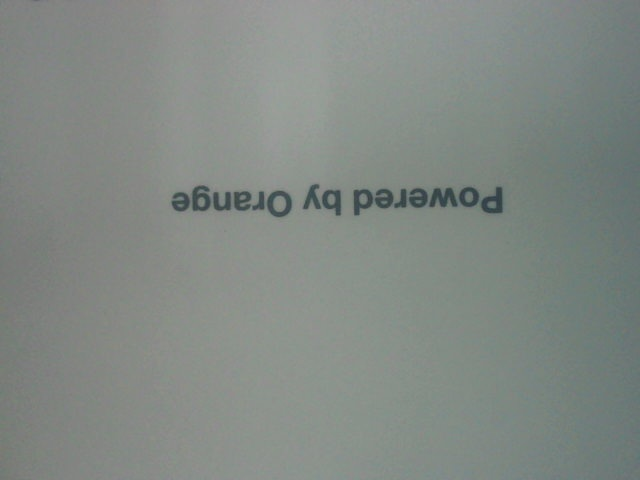AS_PowerByOrange: (165, 169, 526, 236)
